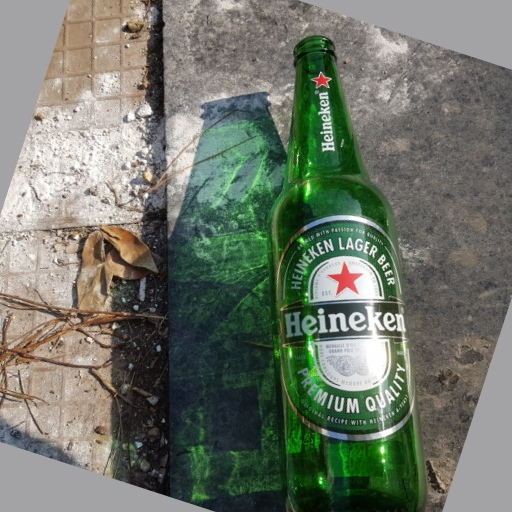Glass_1: (263, 37, 420, 511)
